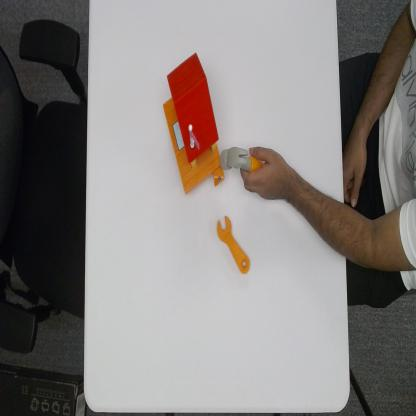Arm: (292, 165, 416, 274)
Hammer: (218, 146, 264, 174)
Hand: (240, 142, 292, 203)
House: (162, 50, 225, 196)
Screwdriver: (215, 212, 251, 276)
